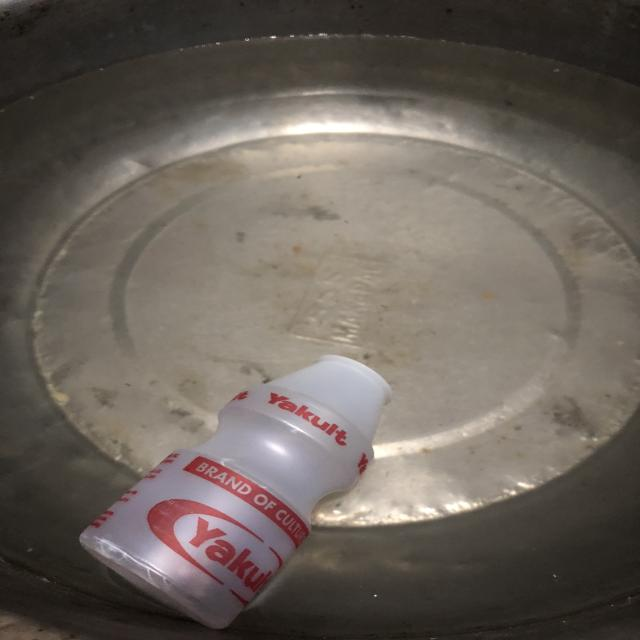Plastic Bottle: (85, 348, 397, 640)
